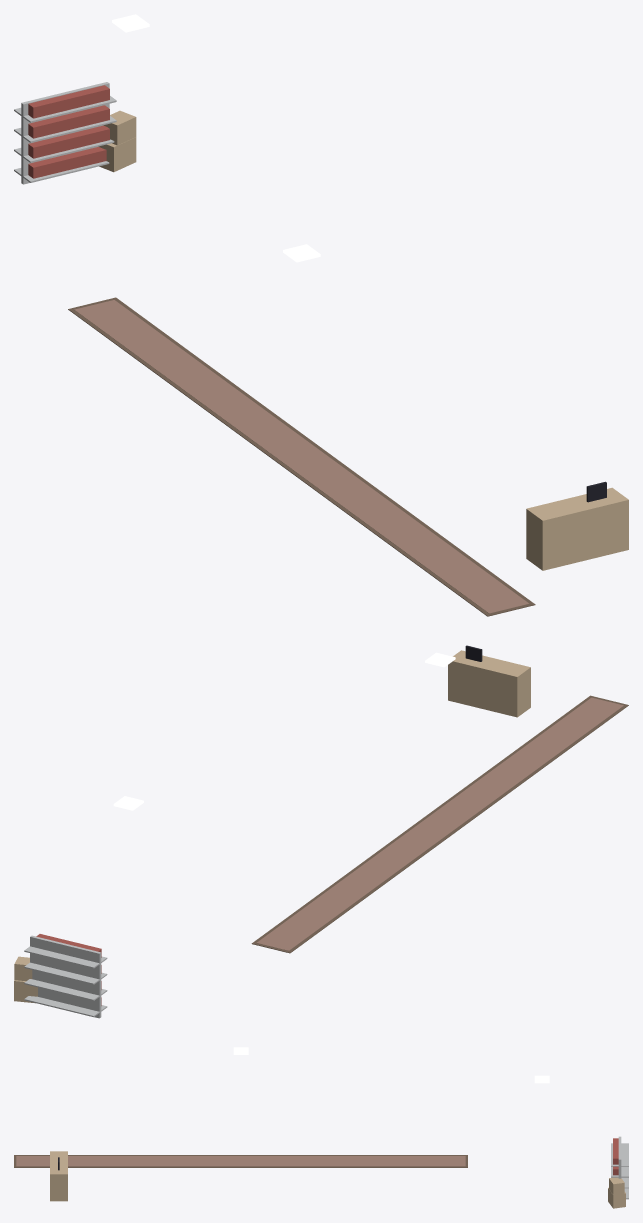
The model's file is fine-s0.glb.
3 views of the same model, one above another, from view 1: azimuth 30°, elevation 25°; view 2: azimuth 150°, elevation 25°; view 3: azimuth 270°, elevation 25° (orthographic). The views are drawn at different scales.
Visible parts, largest first — view 1: soft-s0, shelving.000, shop-counter.000, cardboard-box.000; view 2: soft-s0, shelving.000, shop-counter.000, cardboard-box.000; view 3: soft-s0, shop-counter.000, shelving.000, cardboard-box.000.
Boxes of the visible parts, <box> form: soft-s0: <box>68,297,535,616</box>; shelving.000: <box>14,82,116,184</box>; shop-counter.000: <box>526,481,628,570</box>; cardboard-box.000: <box>98,110,136,172</box>; soft-s0: <box>251,695,628,953</box>; shelving.000: <box>24,934,107,1018</box>; shop-counter.000: <box>448,645,530,717</box>; cardboard-box.000: <box>14,956,37,1003</box>; soft-s0: <box>14,1155,467,1167</box>; shop-counter.000: <box>50,1151,67,1201</box>; shelving.000: <box>611,1136,628,1199</box>; cardboard-box.000: <box>608,1177,625,1208</box>.
Bounding box in the file's own units: 4.23 × 4.1 × 20.56.
